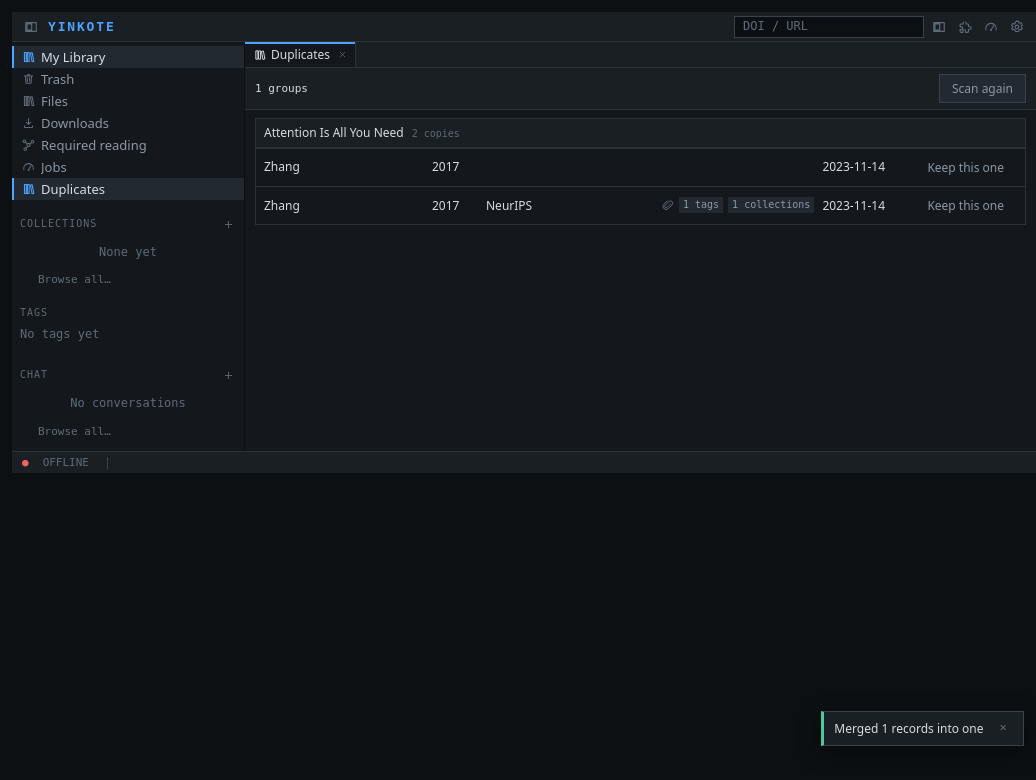
Test case: duplicates › takes the group off the screen once it is one record
Click the 1st button "Keep this one" at (966, 167), box x1=914 y1=153 x2=1017 y2=182
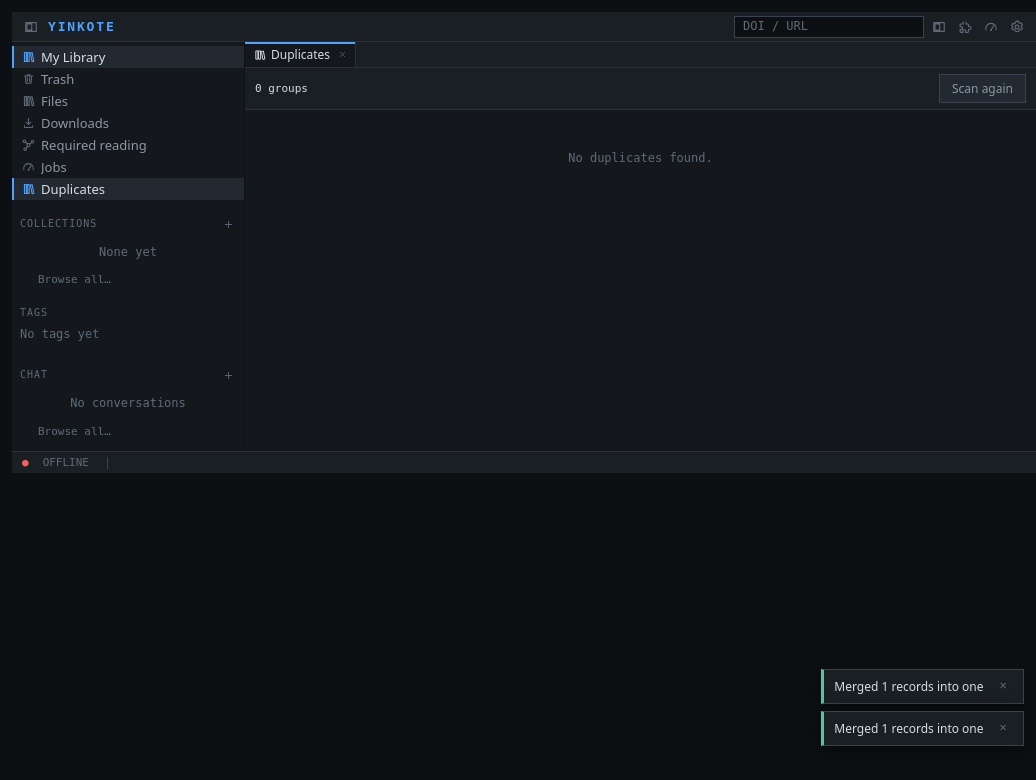
Check: no elements with class "dup-group" are shown
